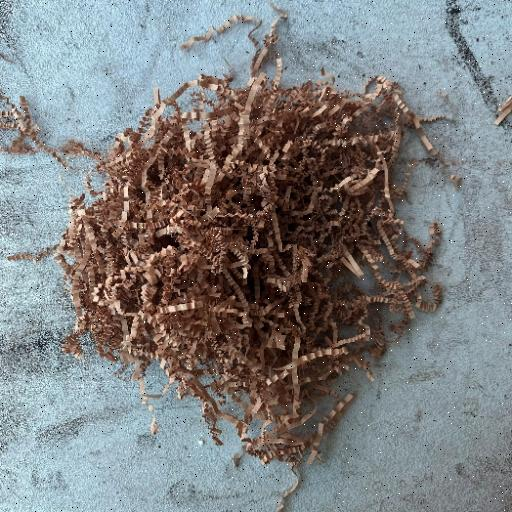Cardboard: (47, 13, 453, 474)
